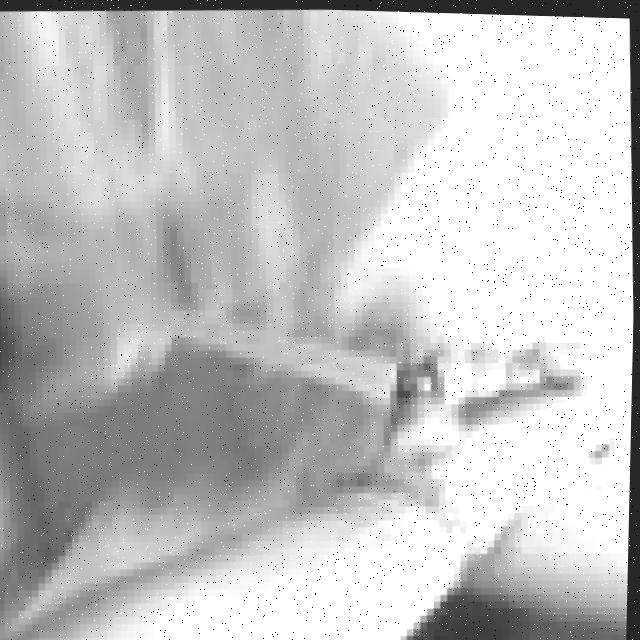knife: (118, 262, 398, 408)
